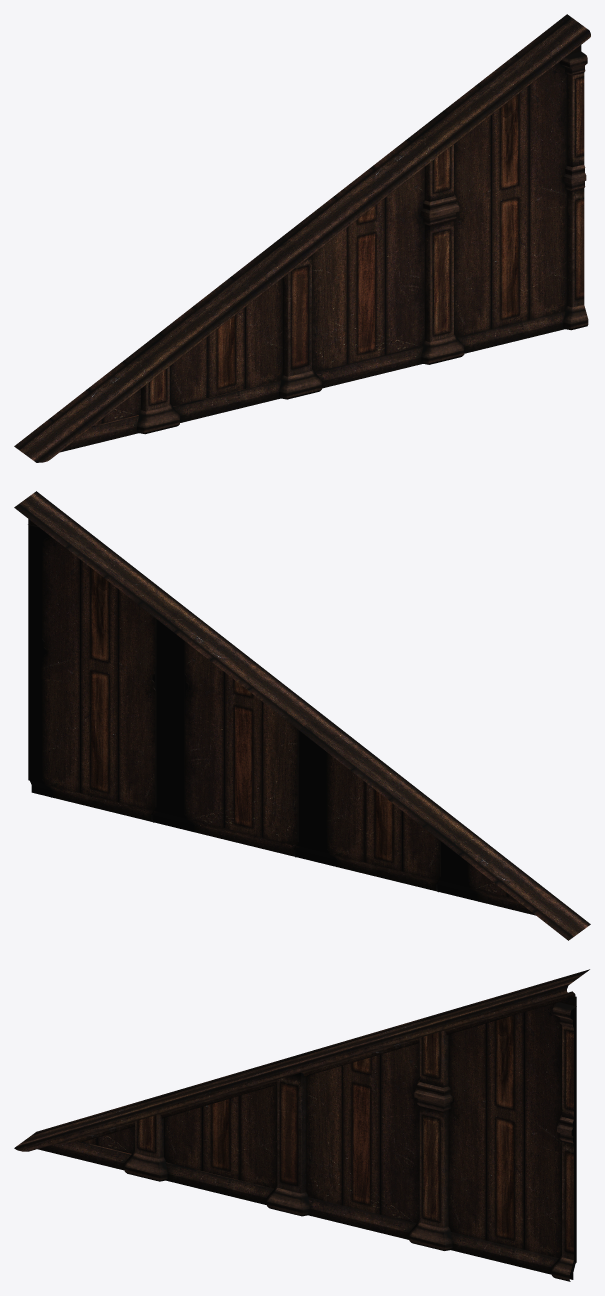
File: default02_stairs_01.DAE
3 views of the same model, one above another, from view 1: azimuth 30°, elevation 25°; view 2: azimuth 150°, elevation 25°; view 3: azimuth 330°, elevation 25° (orthographic).
Visible parts, largest first — view 1: default029; view 2: default029; view 3: default029.
Boxes of the visible parts, bbox=[...] form: default029: bbox=[14, 14, 590, 462]; default029: bbox=[14, 491, 590, 940]; default029: bbox=[14, 969, 589, 1281].
Bounding box in the file's own units: 7.79 × 4 × 0.5804.
